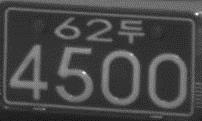0: (147, 51, 189, 110), (100, 48, 140, 106)
2: (85, 17, 113, 42)
4: (9, 43, 48, 100)
5: (54, 45, 93, 104)
6: (53, 15, 81, 40)
두: (118, 18, 145, 43)
